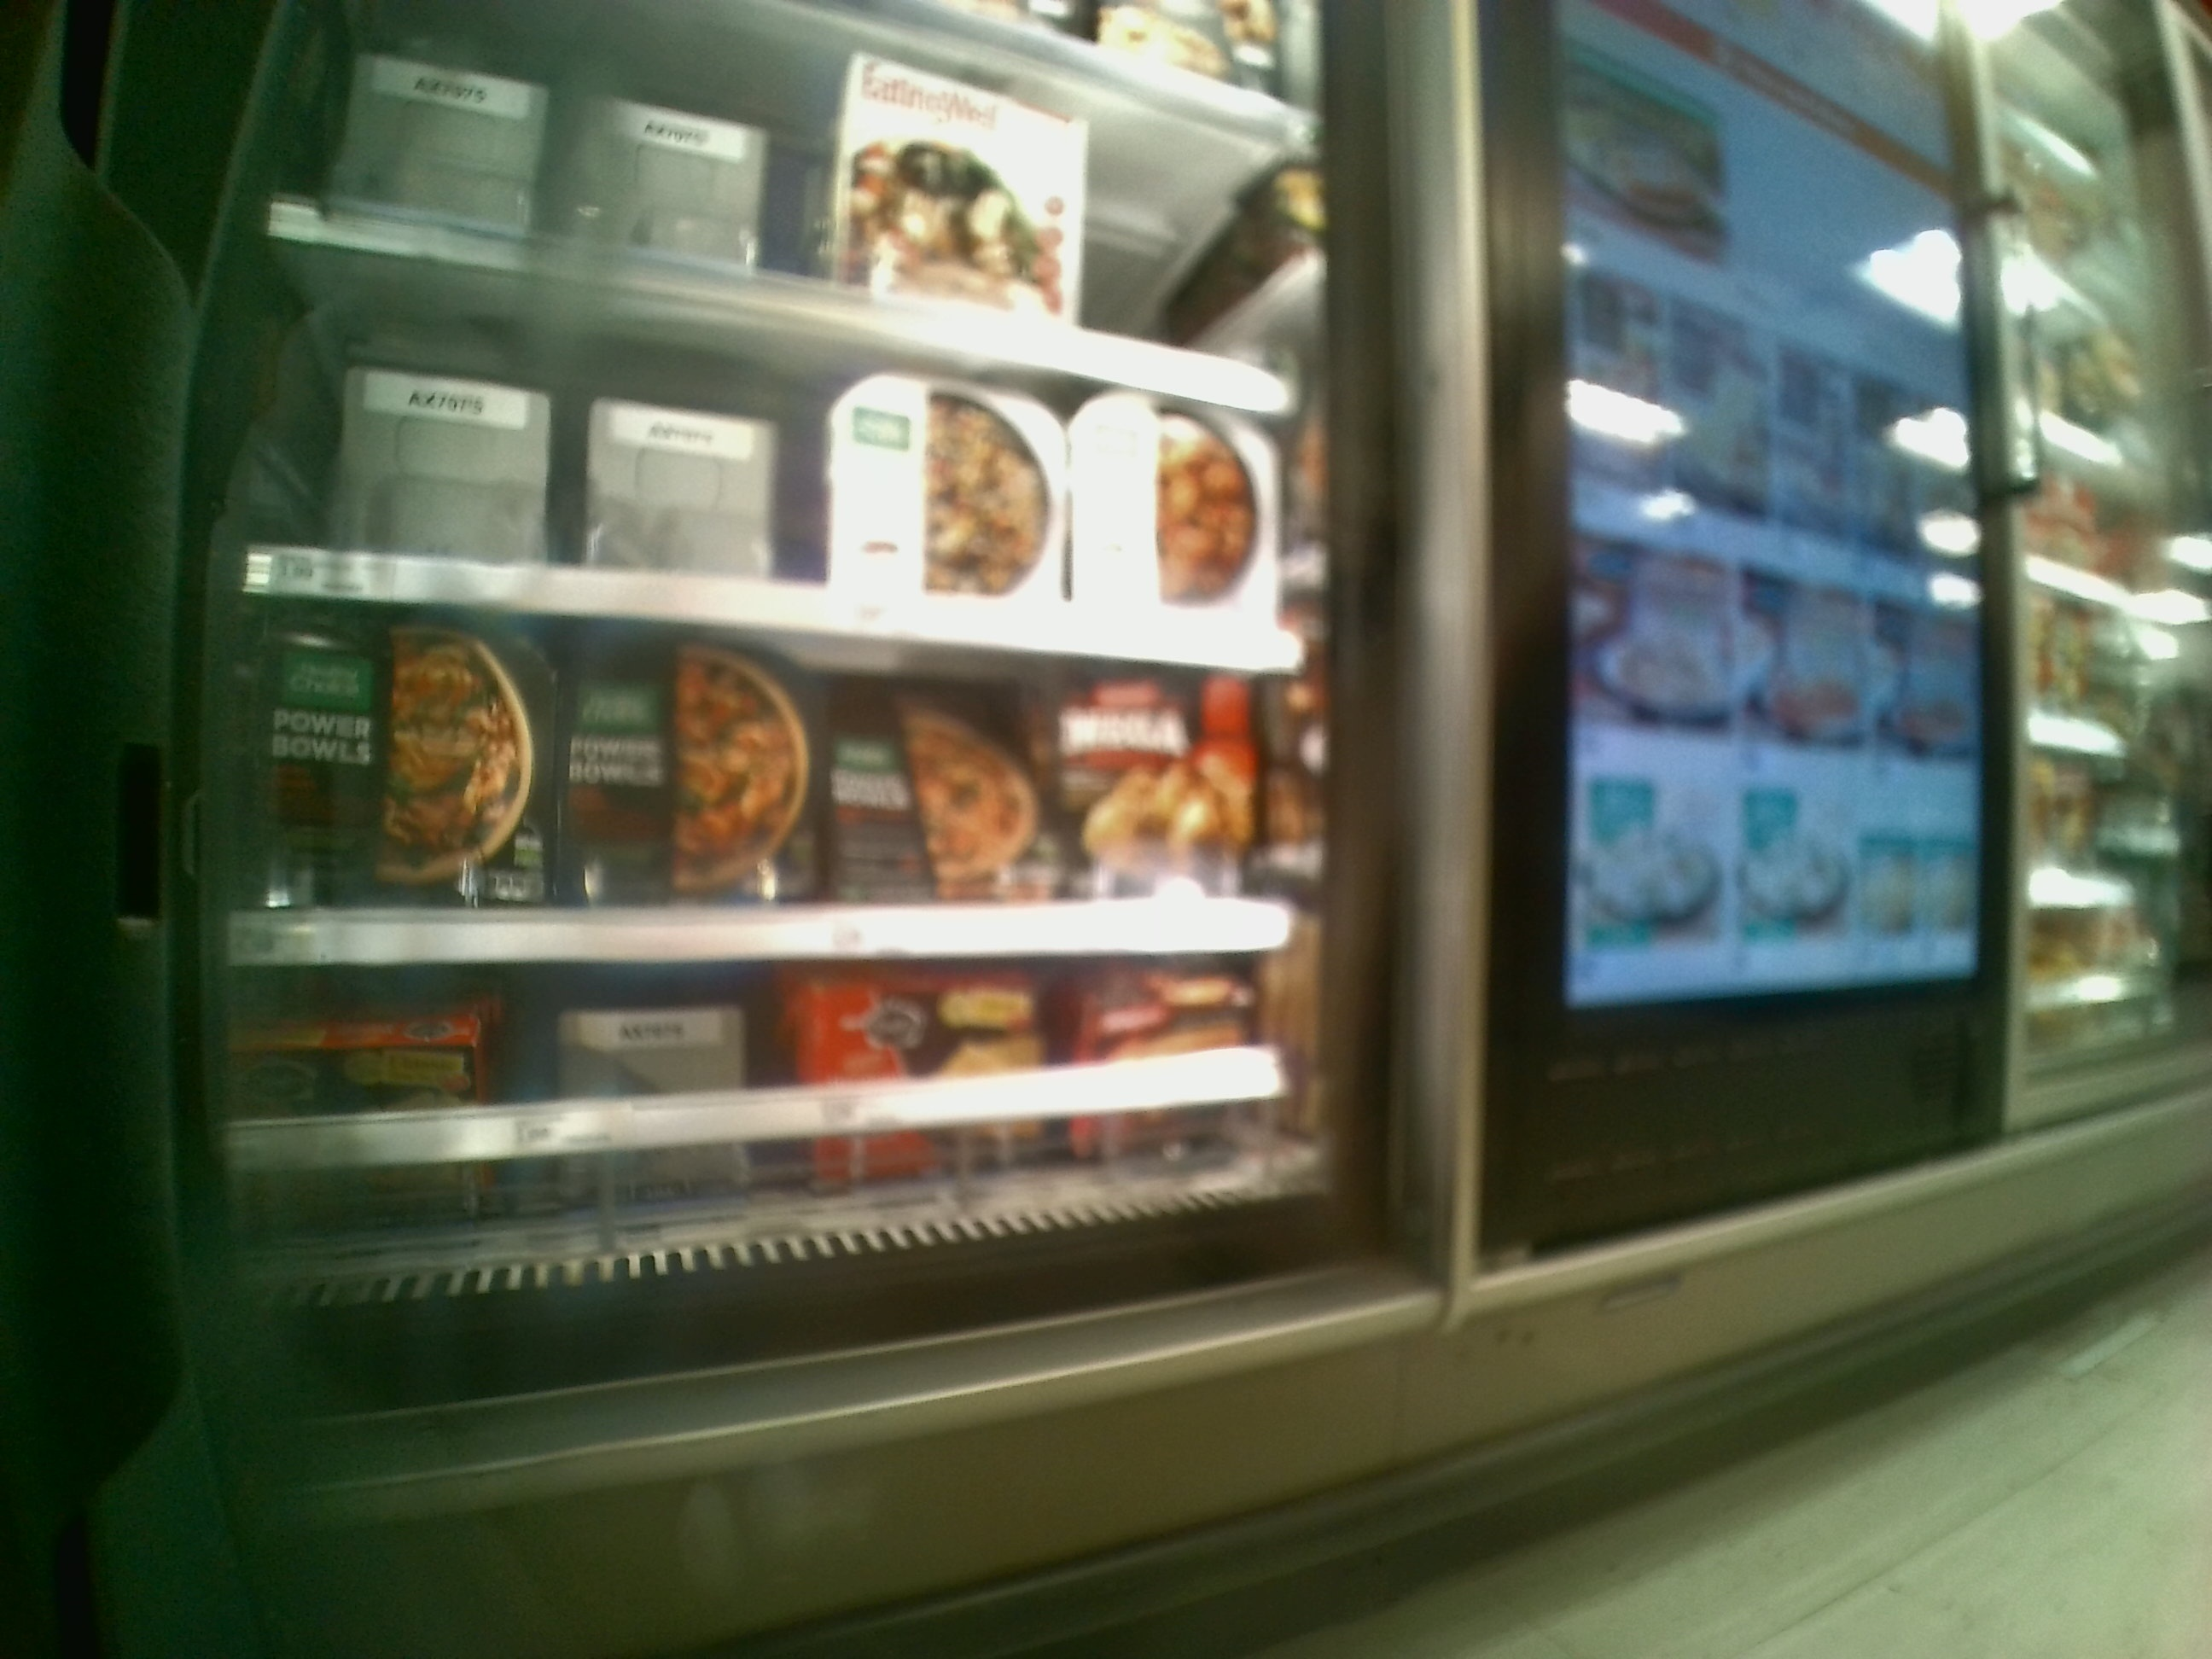shelf: (221, 586, 1299, 957), (216, 955, 1339, 1288)
